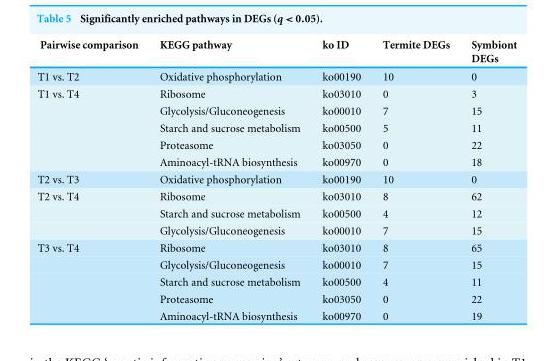table: (36, 36, 516, 322)
table column: (148, 36, 310, 322), (36, 36, 148, 322), (371, 36, 459, 322), (310, 36, 371, 322), (459, 36, 516, 322)
table column header: (36, 36, 516, 66)
table row: (36, 36, 516, 66), (36, 66, 516, 84), (36, 186, 516, 204), (36, 84, 516, 101), (36, 101, 516, 118), (36, 118, 516, 135), (36, 135, 516, 152), (36, 152, 516, 169), (36, 169, 516, 186), (36, 204, 516, 221), (36, 221, 516, 238), (36, 238, 516, 255), (36, 255, 516, 272), (36, 272, 516, 289), (36, 289, 516, 306), (36, 306, 516, 322)
table spanning cell: (36, 84, 148, 169), (36, 238, 148, 322), (36, 186, 148, 238)
